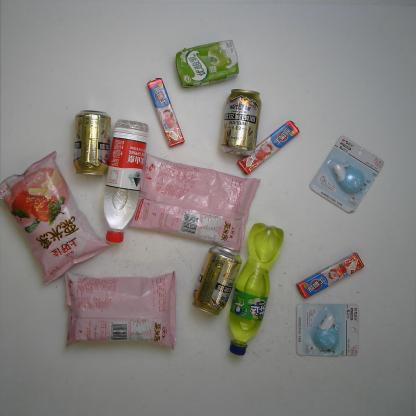Alcohol: (192, 243, 242, 316), (70, 107, 114, 178), (220, 89, 262, 156)
Candy: (237, 120, 300, 174), (295, 252, 365, 300), (144, 76, 185, 148)
Drink: (228, 222, 284, 357), (98, 118, 152, 245)
Milk: (175, 40, 240, 88)
Puffed Food: (0, 150, 112, 284), (127, 153, 261, 253), (64, 269, 178, 351)
Stationery: (309, 135, 384, 214), (295, 300, 362, 362)
